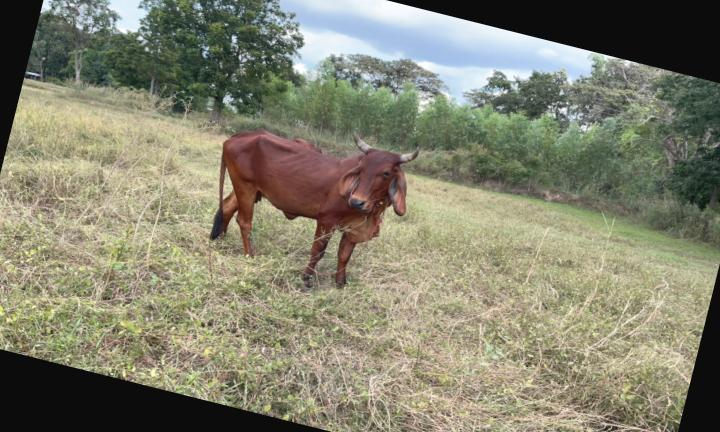Brahman: (210, 129, 418, 286)
